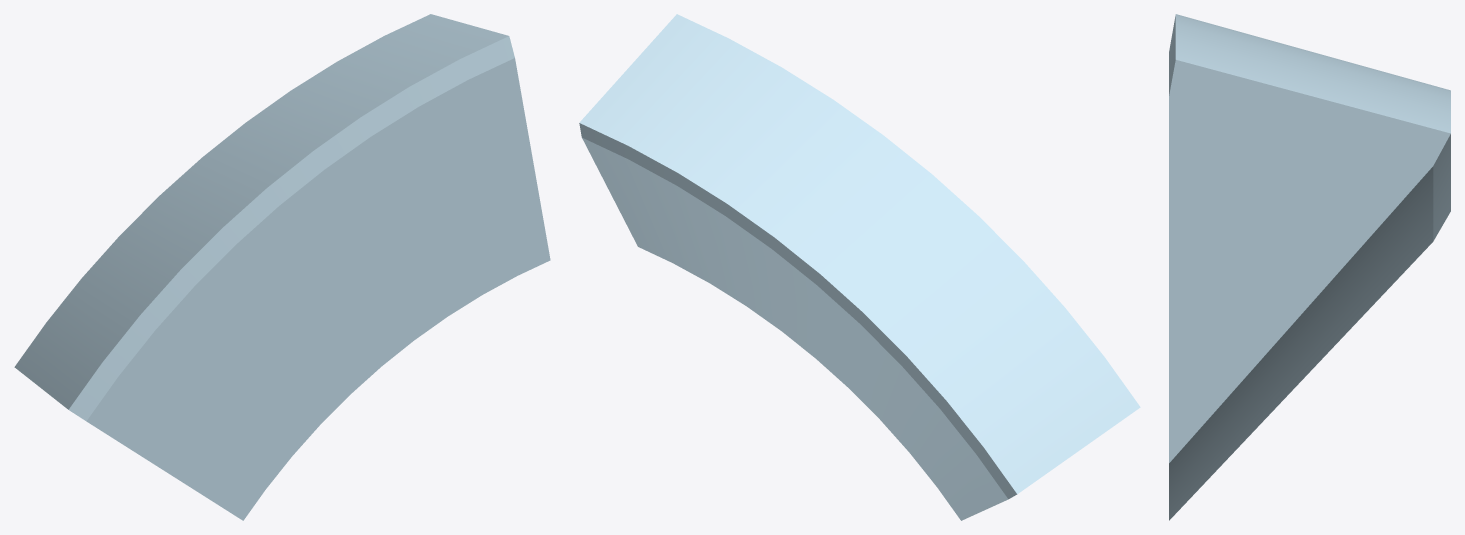
The model's file is Sub_9_Cell_2_2.gltf.
3 views of the same model, side by side, from view 1: azimuth 30°, elevation 25°; view 2: azimuth 150°, elevation 25°; view 3: azimuth 270°, elevation 25° (orthographic). The views are drawn at different scales.
Parts seen in each view (by area): view 1: Sub_9_Cell_2_2; view 2: Sub_9_Cell_2_2; view 3: Sub_9_Cell_2_2.
Part boxes in pixels (<box>): Sub_9_Cell_2_2: <box>14,14,550,520</box>; Sub_9_Cell_2_2: <box>579,14,1140,520</box>; Sub_9_Cell_2_2: <box>1169,14,1450,520</box>.
Size of the model in its own units: 0.1211 by 0.1008 by 0.0384.
